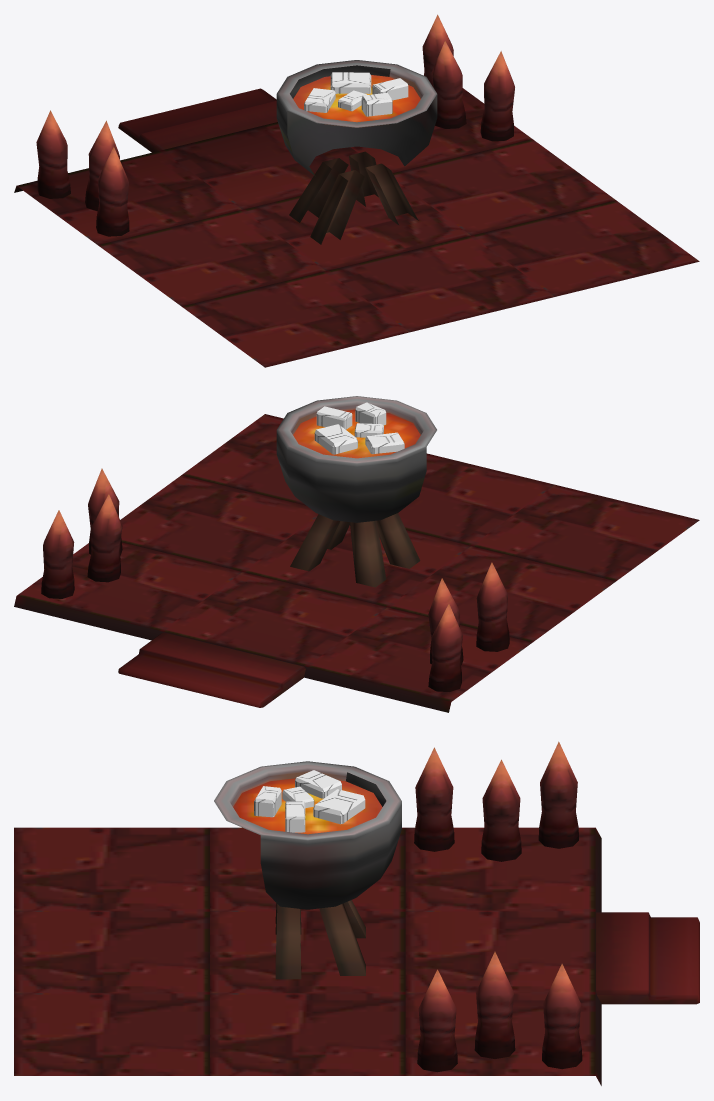
Rendered from [gimmick]brazier.fbx.
The picture shows the model from 3 angles, top to bottom: view 1: azimuth 30°, elevation 25°; view 2: azimuth 150°, elevation 25°; view 3: azimuth 270°, elevation 25°; orthographic projection. The views are drawn at different scales.
Visible parts, largest first — view 1: [gimmick]brazier, FX_firewood; view 2: [gimmick]brazier, FX_firewood; view 3: [gimmick]brazier, FX_firewood.
Part boxes in pixels (bbox=[...]): [gimmick]brazier: bbox=[14, 14, 699, 367]; FX_firewood: bbox=[304, 72, 408, 116]; [gimmick]brazier: bbox=[14, 396, 699, 712]; FX_firewood: bbox=[314, 402, 404, 454]; [gimmick]brazier: bbox=[14, 741, 699, 1085]; FX_firewood: bbox=[254, 770, 365, 832].
Size of the model in its own units: 3.02 by 0.9727 by 3.53.
